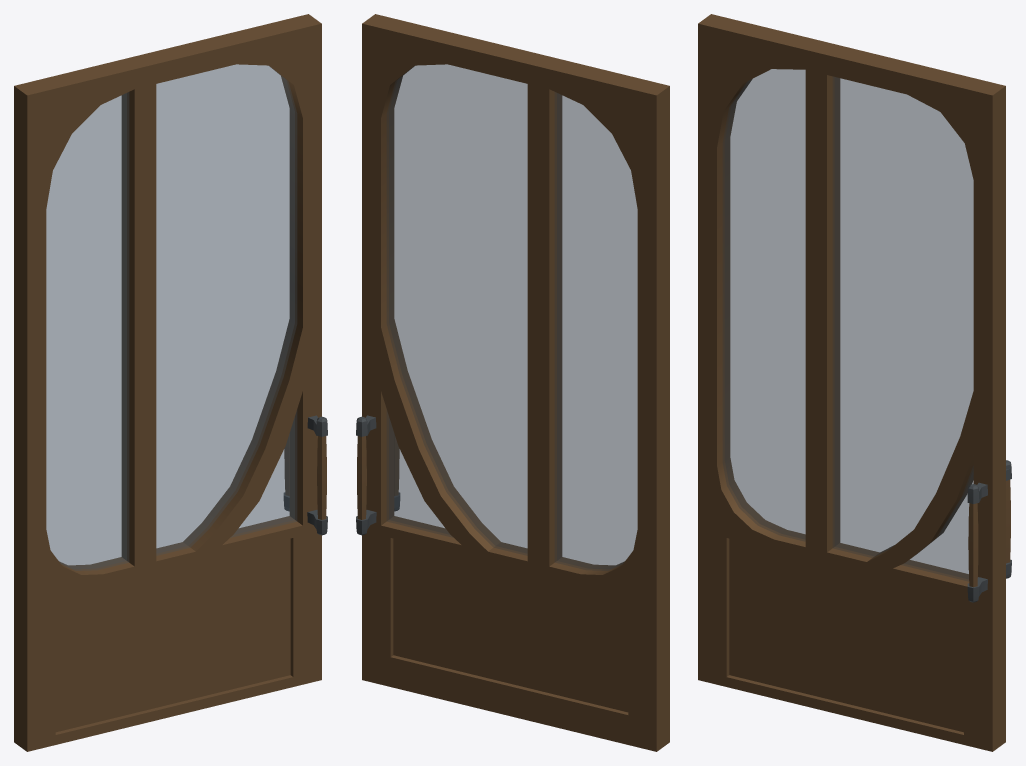
The model's file is SM_Buildings_University_01_Door_01_L.fbx.
3 views of the same model, side by side, from view 1: azimuth 30°, elevation 25°; view 2: azimuth 150°, elevation 25°; view 3: azimuth 330°, elevation 25° (orthographic).
Parts seen in each view (by area): view 1: SM_Buildings_University_01_Door_01_L; view 2: SM_Buildings_University_01_Door_01_L; view 3: SM_Buildings_University_01_Door_01_L.
Part boxes in pixels (x1,y1,x2,y2): SM_Buildings_University_01_Door_01_L: (14, 14, 327, 751); SM_Buildings_University_01_Door_01_L: (356, 14, 669, 751); SM_Buildings_University_01_Door_01_L: (698, 14, 1011, 751).
Bounding box in the file's own units: 1.55 × 3.3 × 0.3509.
